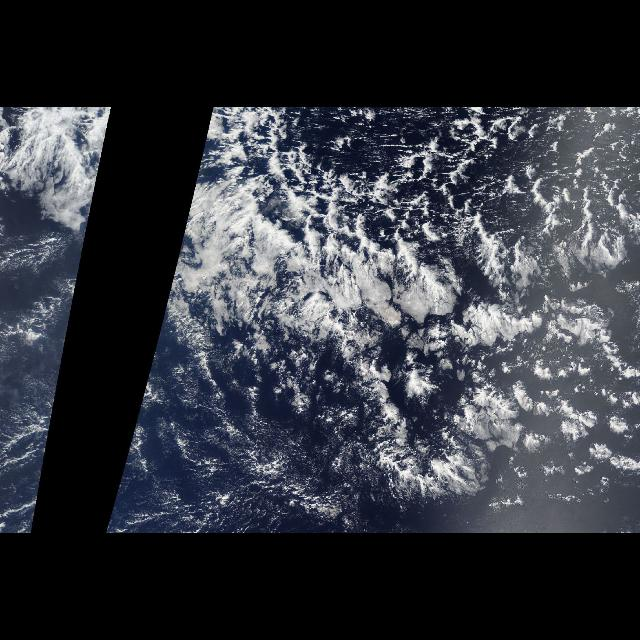Flower: (358, 340, 638, 492)
Gravel: (231, 108, 639, 274)
Sugar: (105, 343, 382, 532), (1, 366, 64, 534)
